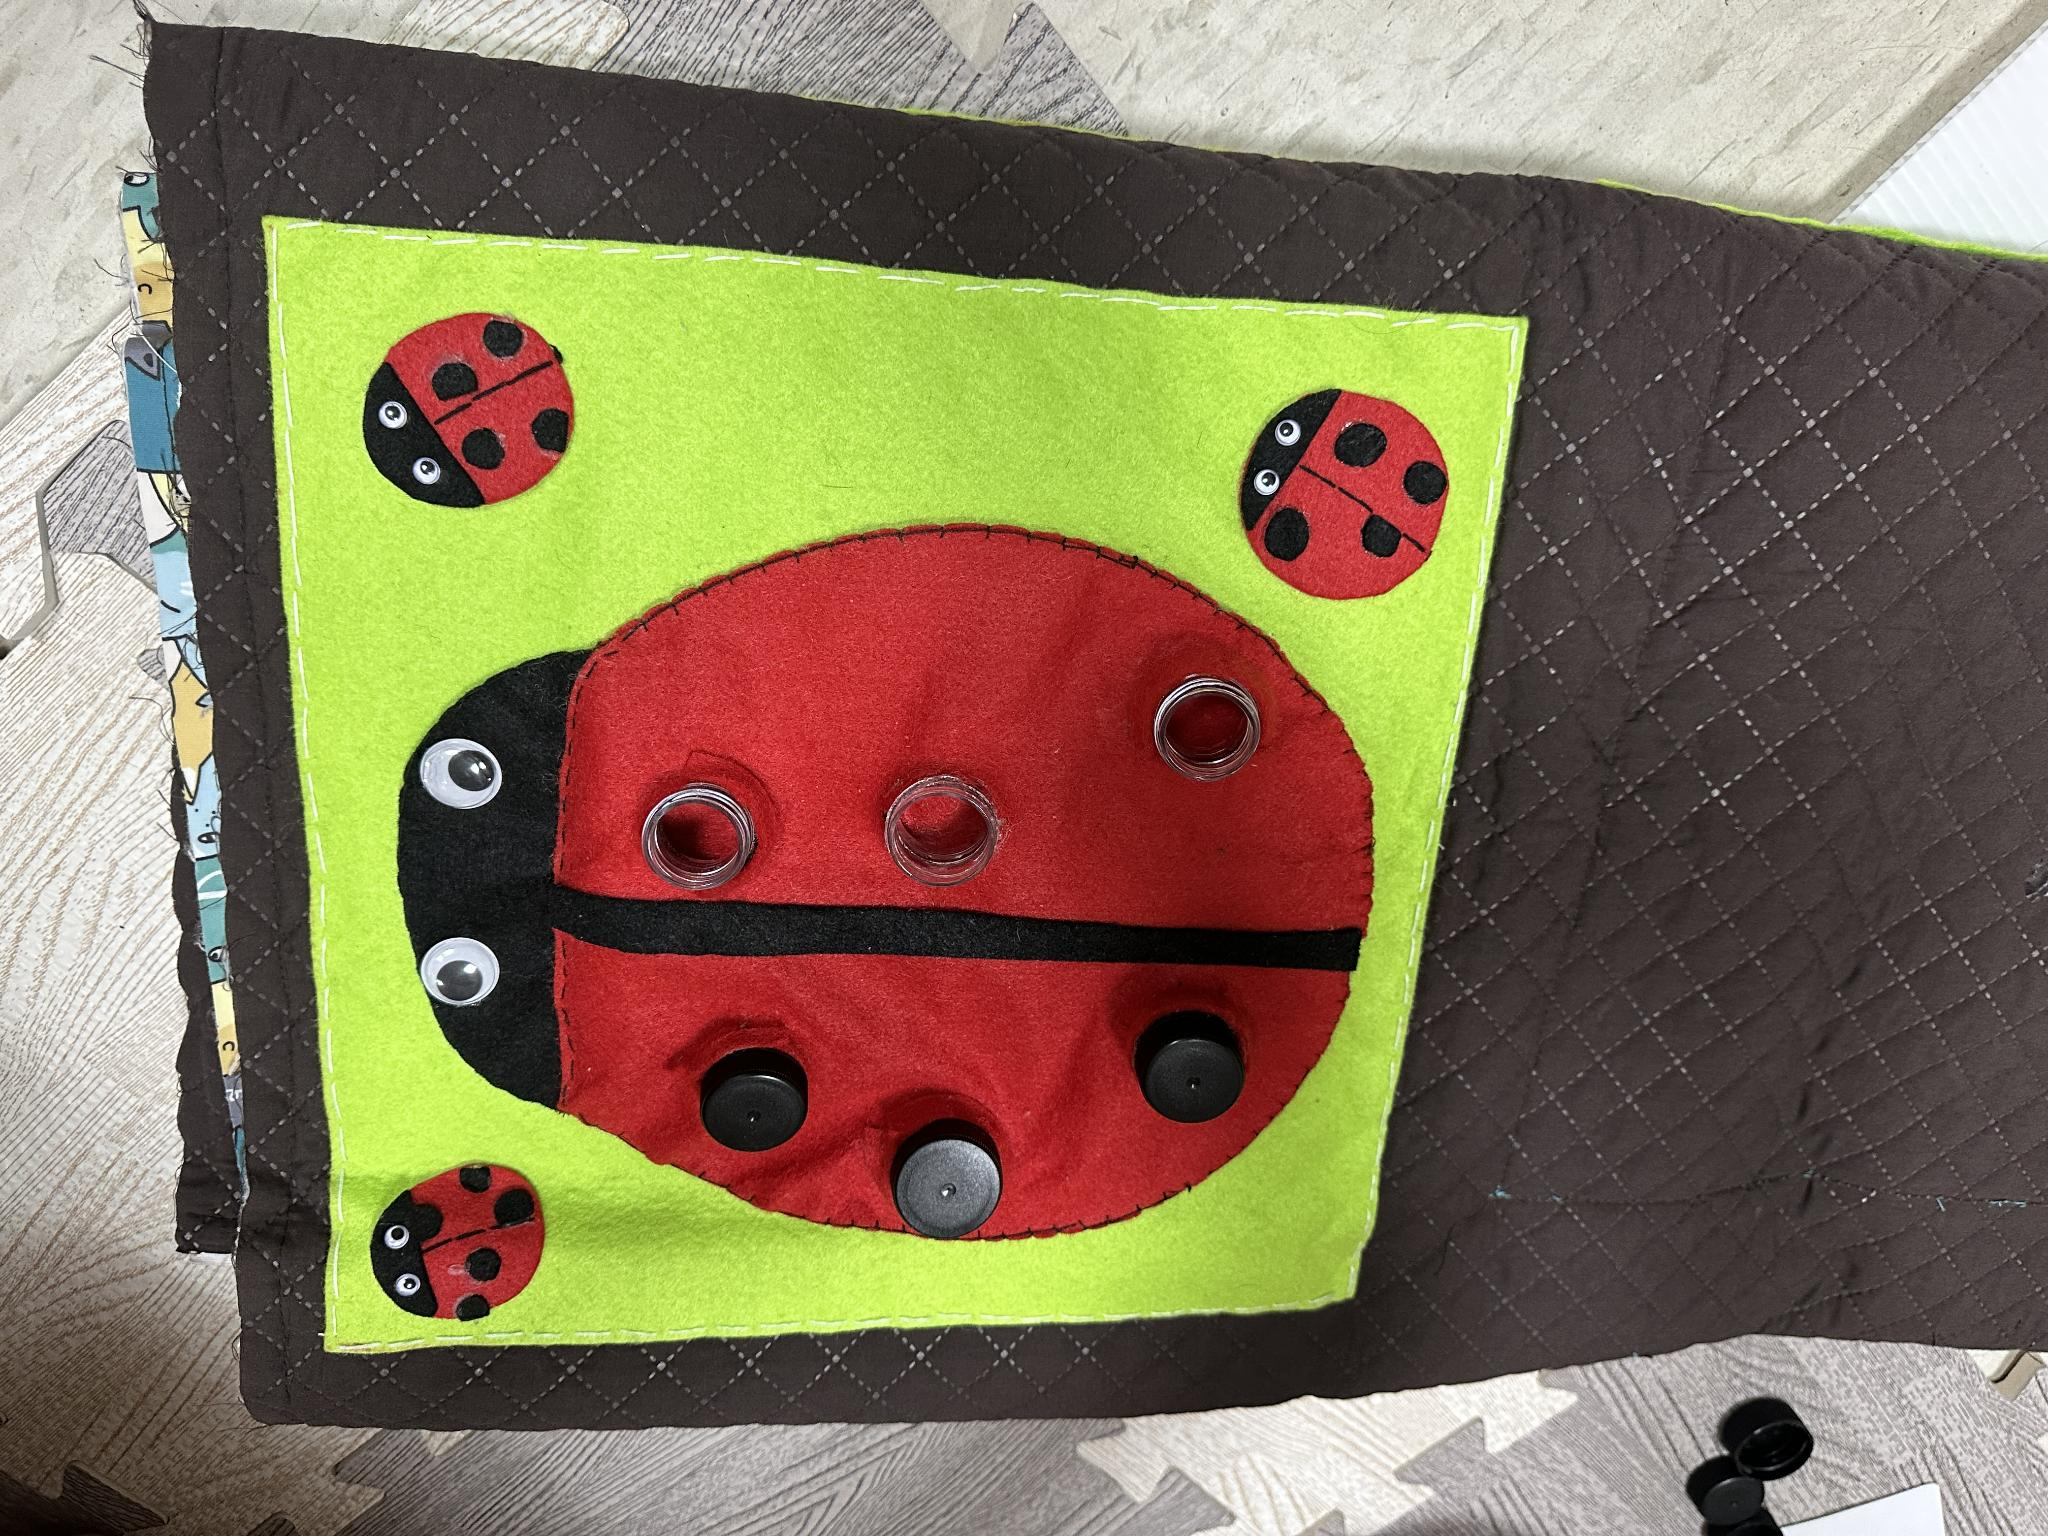cap_ok: (668, 1002, 835, 1175), (861, 1091, 1022, 1252), (1118, 986, 1263, 1141)
